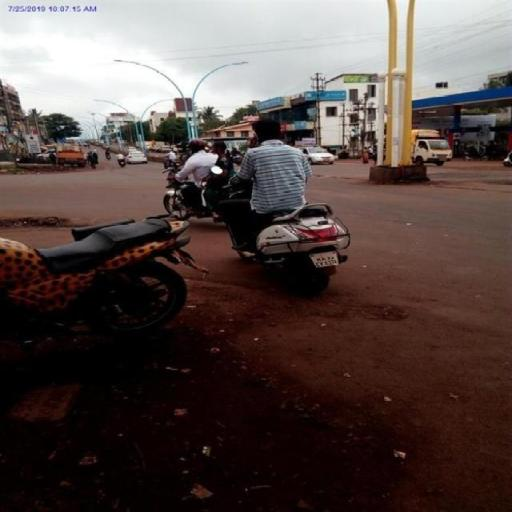bike: (199, 116, 365, 296)
numberplate: (310, 248, 343, 270)
using mobile: (252, 134, 260, 145)
withouthelmet: (254, 119, 282, 141)
